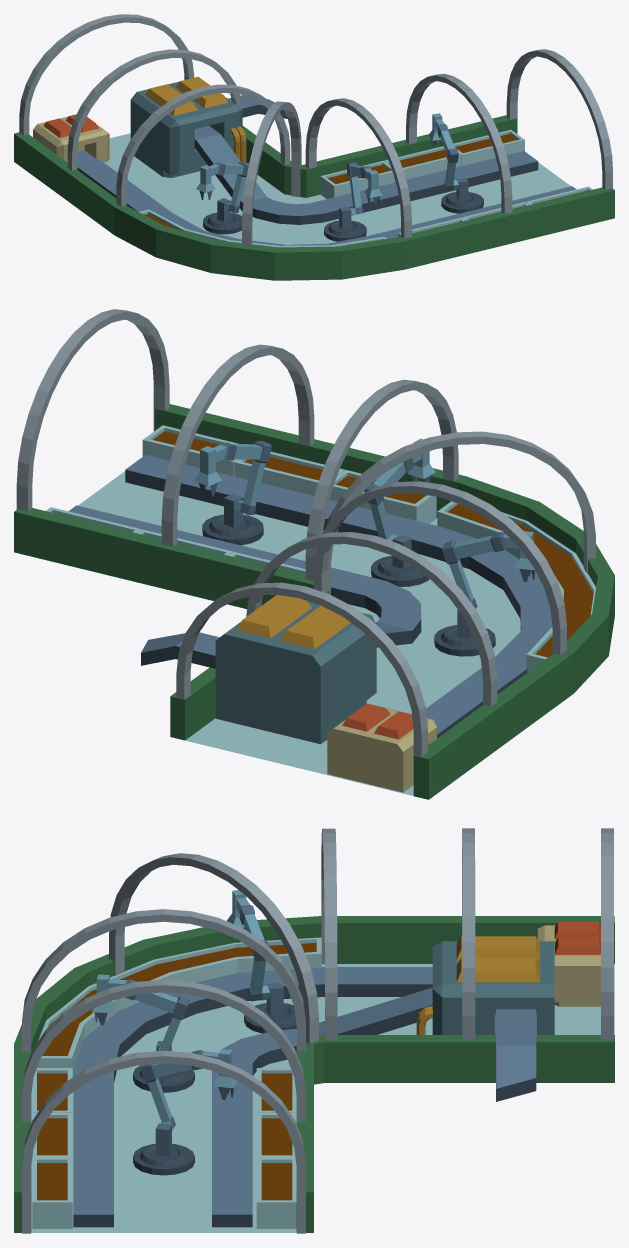
Rendered from Greenhouse.fbx.
3 renders of one model, top to bottom at view 1: azimuth 30°, elevation 25°; view 2: azimuth 150°, elevation 25°; view 3: azimuth 270°, elevation 25°, orthographic. The views are drawn at different scales.
Parts seen in each view (by area): view 1: Greenhouse; view 2: Greenhouse; view 3: Greenhouse.
Part boxes in pixels (x1,y1,x2,y2): Greenhouse: (14, 14, 614, 280); Greenhouse: (14, 309, 614, 799); Greenhouse: (14, 828, 614, 1233).
Bounding box in the file's own units: 24.19 × 7.25 × 22.18.
